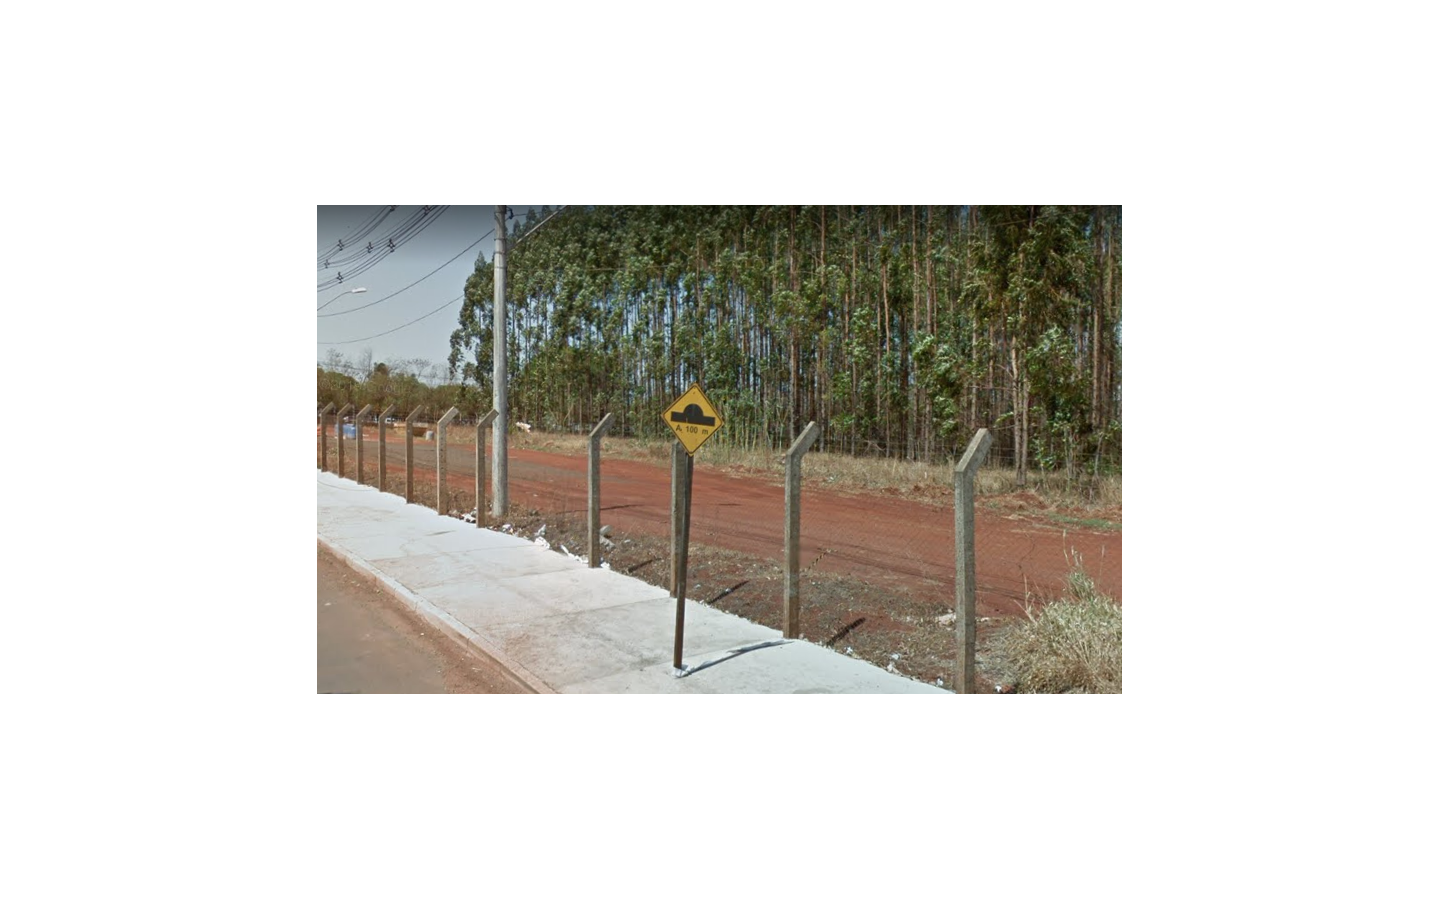l100m: (659, 383, 722, 456)
